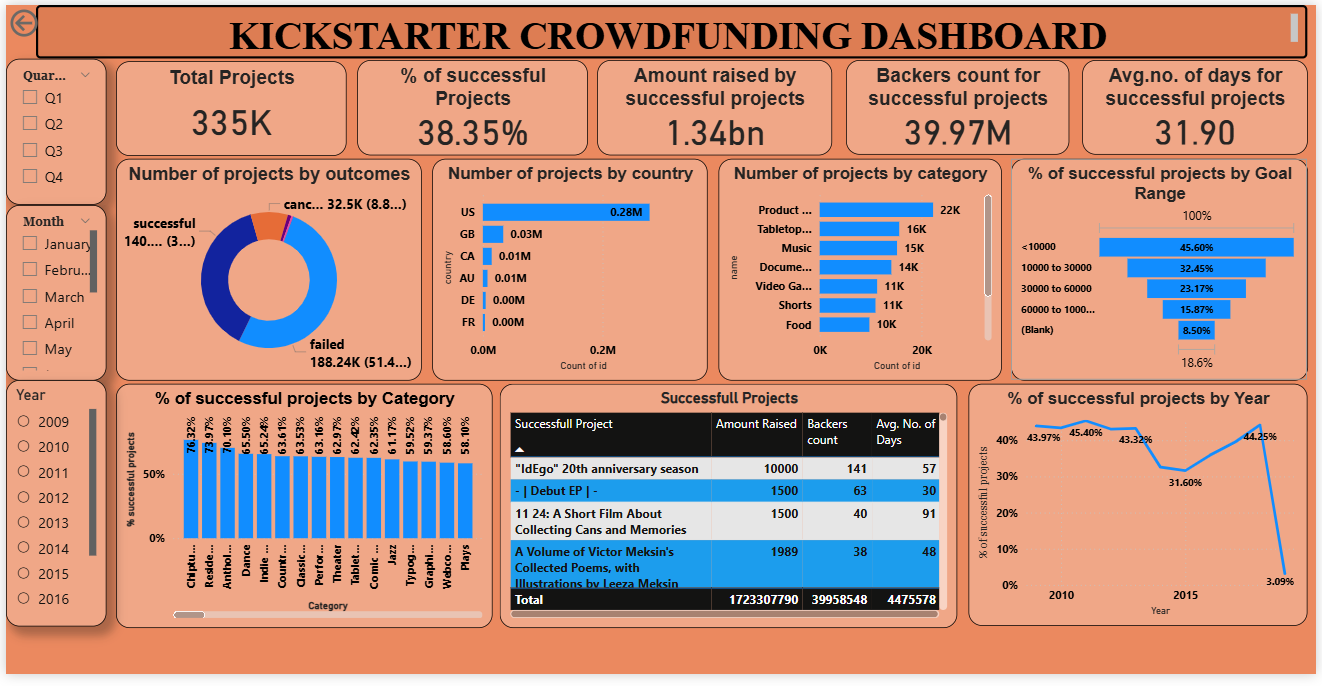

Layout of this report page (visuals, bound fields, positions):
{"tool":"powerbi","page":{"name":"Page 1","canvas":[1450,740],"ordinal":0},"visuals":[{"type":"textbox","box":[33.2,0,1407.5,59.3],"z":0},{"type":"slicer","fields":{"Values":["Project.Quarter"]},"box":[0,59.3,111.6,161.4],"z":1000},{"type":"slicer","fields":{"Values":["Project. Month"]},"box":[0,220.7,111.6,194.6],"z":2000},{"type":"donutChart","title":"Number of projects by outcomes","fields":{"Category":["Project.state"],"Y":["Project.id"]},"box":[122.2,169.7,338.2,245.7],"z":3000},{"type":"barChart","title":"Number of projects by country","fields":{"Category":["Project.country"],"Y":["Project.id"]},"box":[471.1,169.7,305,245.7],"z":4000},{"type":"clusteredBarChart","title":"Number of projects by category","fields":{"Category":["Category.name"],"Y":["Project.id"]},"box":[788,169.7,313.3,245.7],"z":5000},{"type":"card","title":"Amount raised by successful projects","fields":{"Values":["Project.USD_RATE"]},"box":[655.1,60.5,259.9,105.6],"z":6000},{"type":"card","title":"Backers count for successful projects","fields":{"Values":["Project.backers_count"]},"box":[930.4,60.5,246.8,104.4],"z":7000},{"type":"actionButton","box":[0,0,100,40],"z":8000},{"type":"card","title":"Avg.no. of days for successful projects","fields":{"Values":["Project.No. of days"]},"box":[1191.5,60.5,249.2,104.4],"z":9000},{"type":"tableEx","title":"Successfull Projects","fields":{"Values":["Project.name","Project.goal","Project.backers_count","Project.No. of days"]},"box":[547.1,418.9,506.8,270.6],"z":10000},{"type":"card","title":"% of successful Projects","fields":{"Values":["Project.% of successful projects"]},"box":[389.3,60.5,255.2,105.6],"z":11000},{"type":"funnel","fields":{"Category":["Project.Goal Range"],"Y":["Project.% of successful projects"]},"box":[1112,169.7,328.7,245.7],"z":12000},{"type":"lineChart","fields":{"Category":["Project.created_date.Variation.Date Hierarchy.Year","Project.created_date.Variation.Date Hierarchy.Quarter","Project.created_date.Variation.Date Hierarchy.Month"],"Y":["Project.% of successful projects"]},"box":[1065.7,418.9,375,268.2],"z":13000},{"type":"columnChart","title":"% of successful projects by Category","fields":{"Category":["Category.name"],"Y":["Project.% of successful projects"]},"box":[122.2,418.9,416.6,270.6],"z":14000},{"type":"listSlicer","fields":{"Values":["Project.created_date.Variation.Date Hierarchy.Year"]},"box":[0,415.4,111.6,273],"z":15000},{"type":"card","title":"Total Projects","fields":{"Values":["Project.Total projects"]},"box":[122.2,61.7,255.2,104.4],"z":16000}]}

Visuals, with their boxes in screenshot pixels (x1, y1, x2, y2):
textbox: Rect(30, 0, 1295, 53)
slicer - Project.Quarter: Rect(0, 53, 100, 198)
slicer - Project. Month: Rect(0, 198, 100, 373)
"Number of projects by outcomes" donutChart: Rect(110, 153, 414, 373)
"Number of projects by country" barChart: Rect(424, 153, 698, 373)
"Number of projects by category" clusteredBarChart: Rect(709, 153, 990, 373)
"Amount raised by successful projects" card: Rect(589, 54, 823, 149)
"Backers count for successful projects" card: Rect(837, 54, 1058, 148)
actionButton: Rect(0, 0, 90, 36)
"Avg.no. of days for successful projects" card: Rect(1071, 54, 1295, 148)
"Successfull Projects" tableEx: Rect(492, 377, 948, 620)
"% of successful Projects" card: Rect(350, 54, 579, 149)
funnel - Project.Goal Range x Project.% of successful projects: Rect(1000, 153, 1295, 373)
lineChart - Project.created_date.Variation.Date Hierarchy.Year x Project.created_date.Variation.Date Hierarchy.Quarter: Rect(958, 377, 1295, 618)
"% of successful projects by Category" columnChart: Rect(110, 377, 484, 620)
listSlicer - Project.created_date.Variation.Date Hierarchy.Year: Rect(0, 373, 100, 619)
"Total Projects" card: Rect(110, 55, 339, 149)
